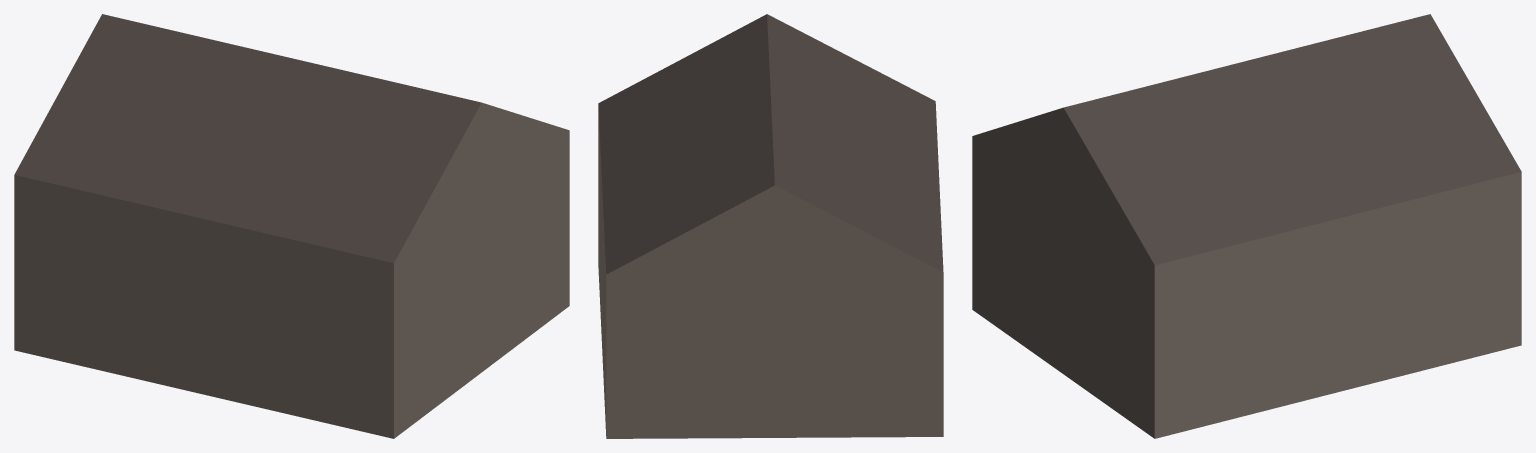
3 renders of one model, left to right at view 1: azimuth 30°, elevation 25°; view 2: azimuth 150°, elevation 25°; view 3: azimuth 270°, elevation 25°, orthographic. The views are drawn at different scales.
Visible parts, largest first — view 1: HP-w369237843; view 2: HP-w369237843; view 3: HP-w369237843.
Boxes of the visible parts, box(x1,y1,x2,y2) form: HP-w369237843: box(14, 14, 569, 438); HP-w369237843: box(598, 14, 943, 438); HP-w369237843: box(972, 14, 1521, 438).
Size of the model in its own units: 16.52 by 9.22 by 17.22.
